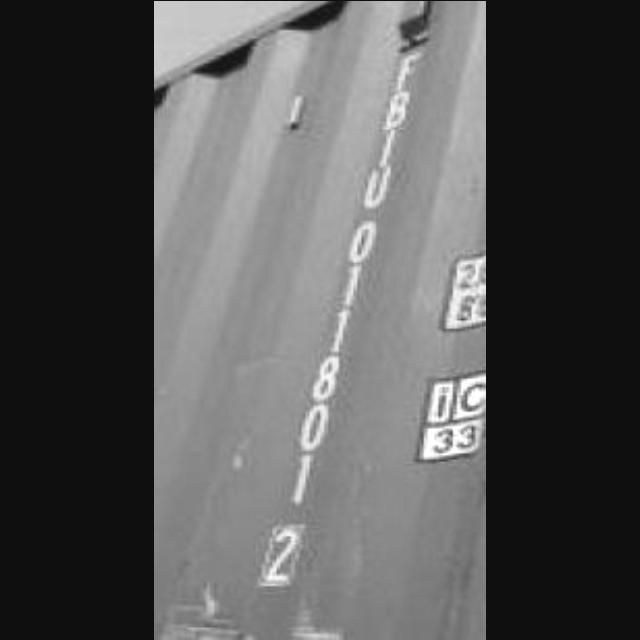0: (295, 401, 341, 454), (344, 215, 388, 268)
1: (328, 262, 380, 314), (320, 307, 366, 358), (286, 449, 322, 506)
2: (260, 521, 306, 591), (454, 256, 481, 292)
3: (428, 422, 458, 460), (456, 422, 479, 454)
8: (308, 352, 350, 408)
b: (373, 86, 421, 128), (450, 290, 480, 328)
c: (456, 376, 486, 418)
f: (385, 48, 427, 90)
i: (369, 125, 406, 169)
u: (362, 166, 396, 210)
